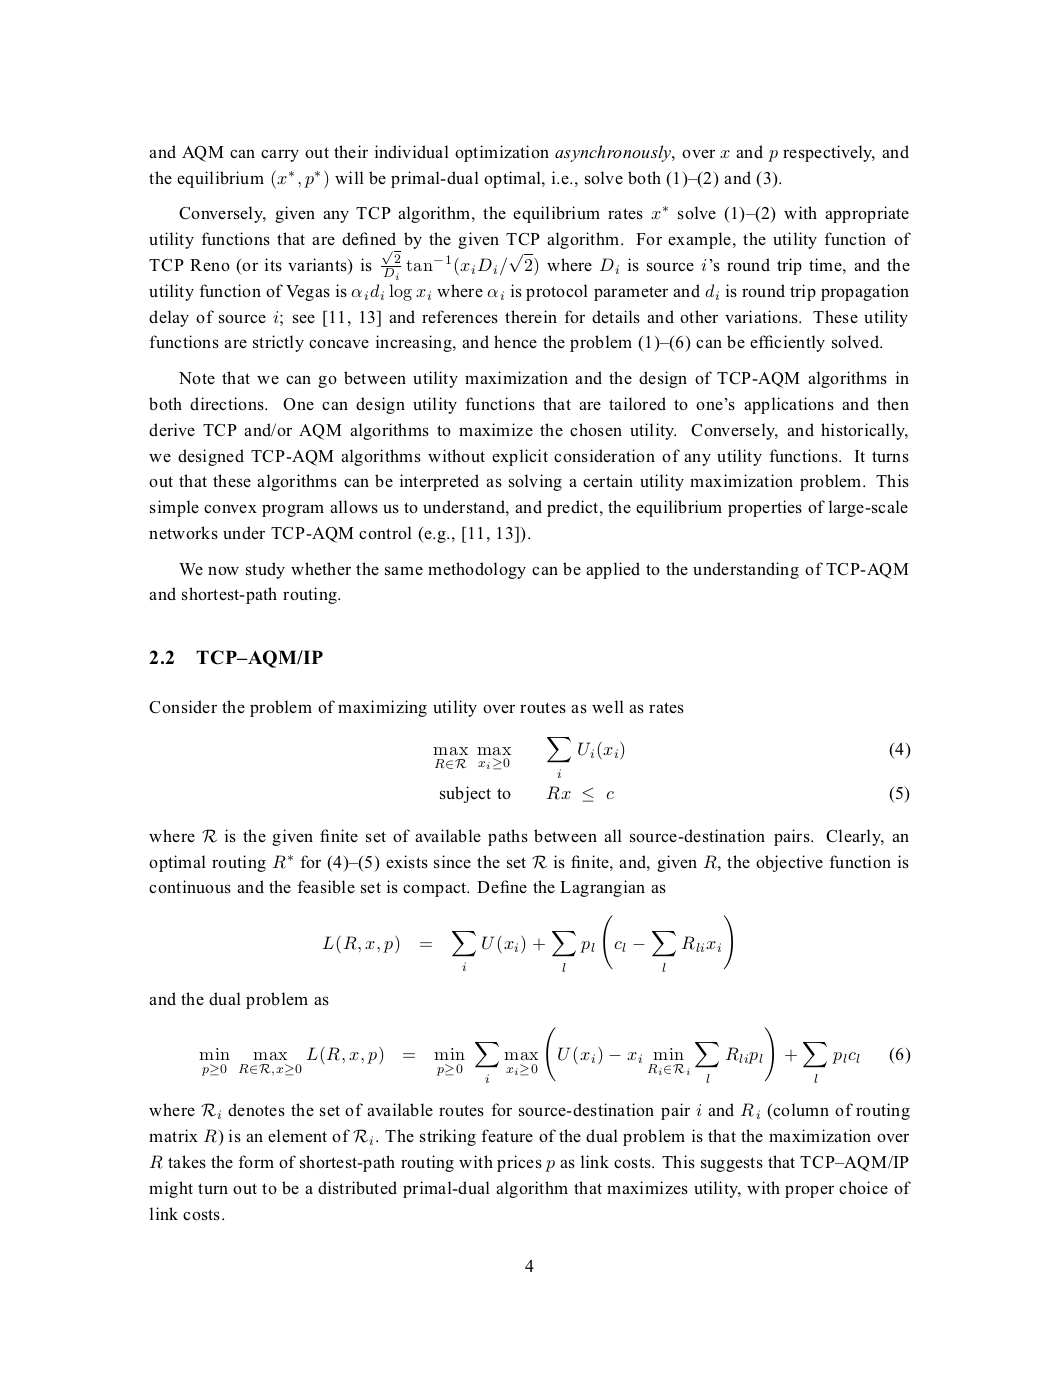formula: (199, 1026, 911, 1083), (322, 914, 732, 972), (434, 736, 911, 771), (439, 785, 909, 804)
